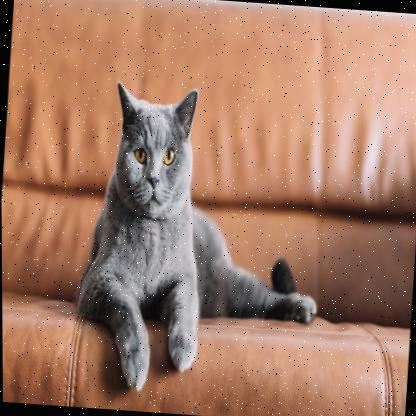cat: (89, 80, 222, 324)
